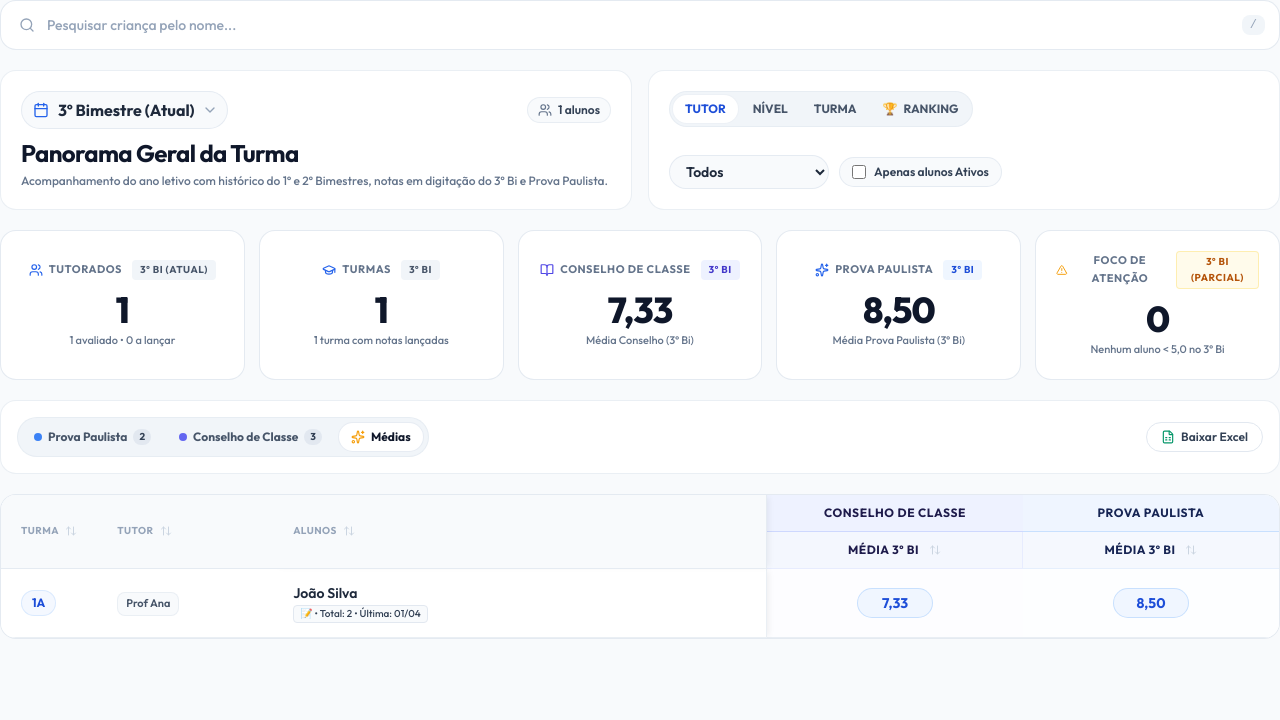
Test: Dashboard — Botões de Visão: Prova Paulista, Conselho de Classe e Médias › exibe as disciplinas do Conselho de Classe e sua média ao clicar em Conselho de Classe
Step 1. Click the button "Conselho de Classe 3" → point(251, 437), box [167, 423, 334, 451]
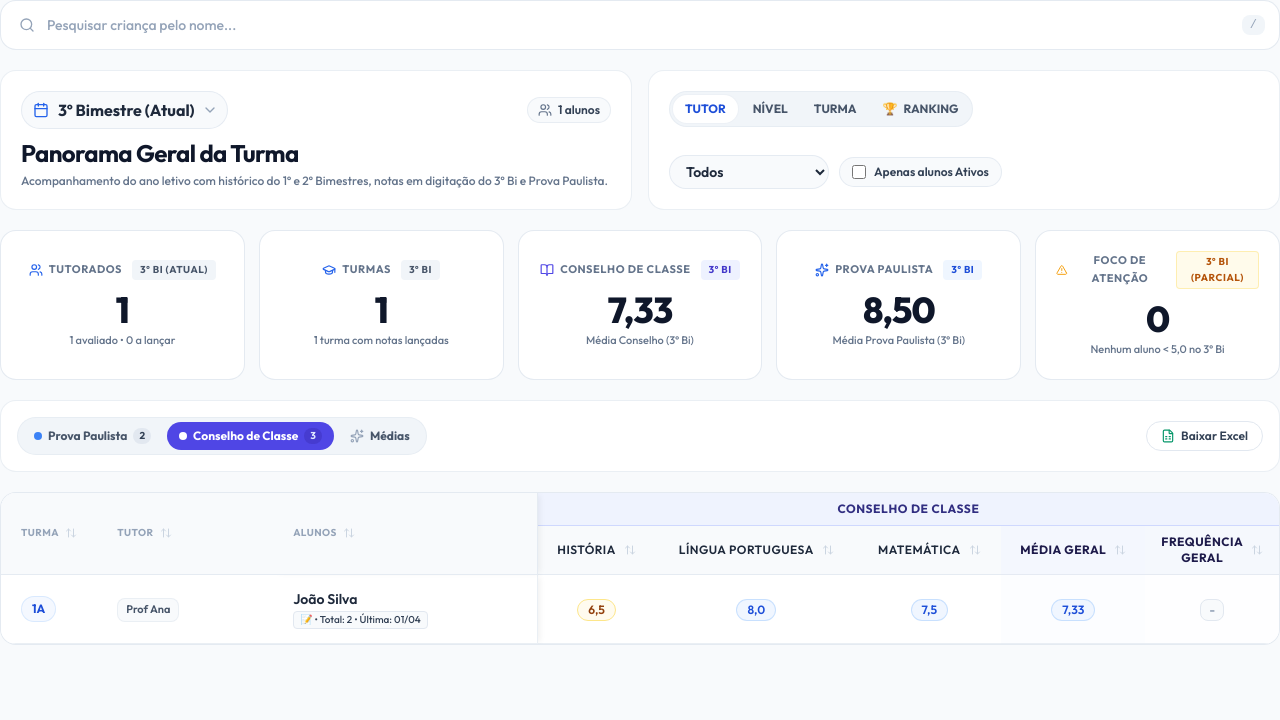
Expected: the text "Conselho de Classe" in the row of "Turmas" is shown, [560, 262, 690, 276]
Expected: the text "HISTÓRIA" is shown, [557, 542, 616, 558]
